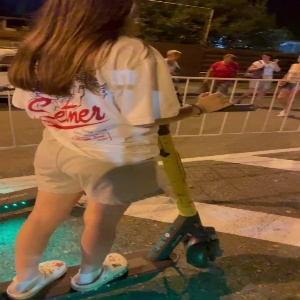human on a scooter: (1, 1, 257, 300)
